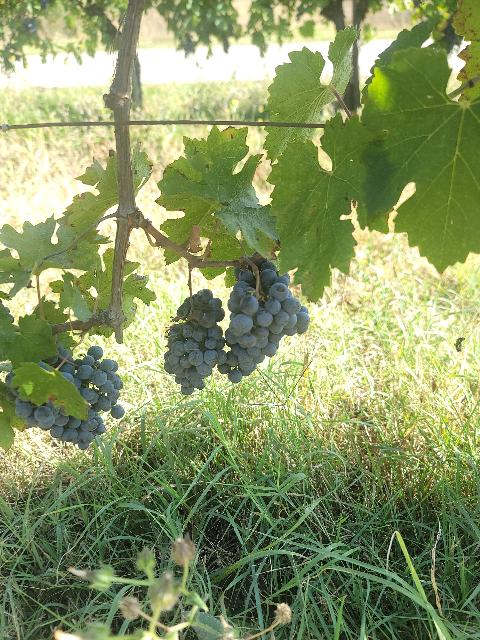grapes: (219, 261, 309, 384), (165, 289, 226, 395), (6, 388, 105, 450), (50, 345, 125, 419)
